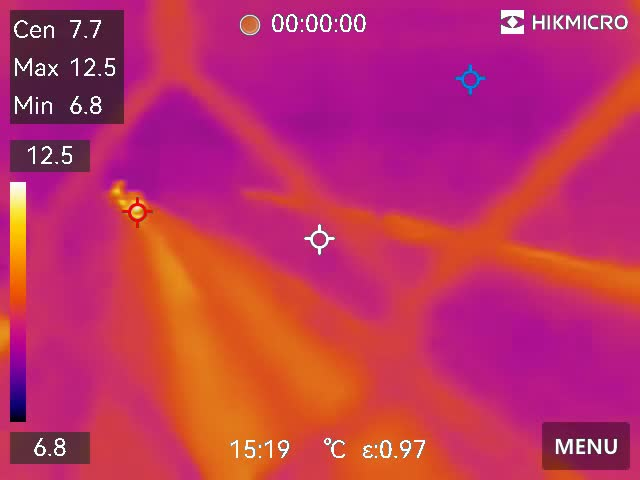heavyTruck: (126, 192, 146, 221)
